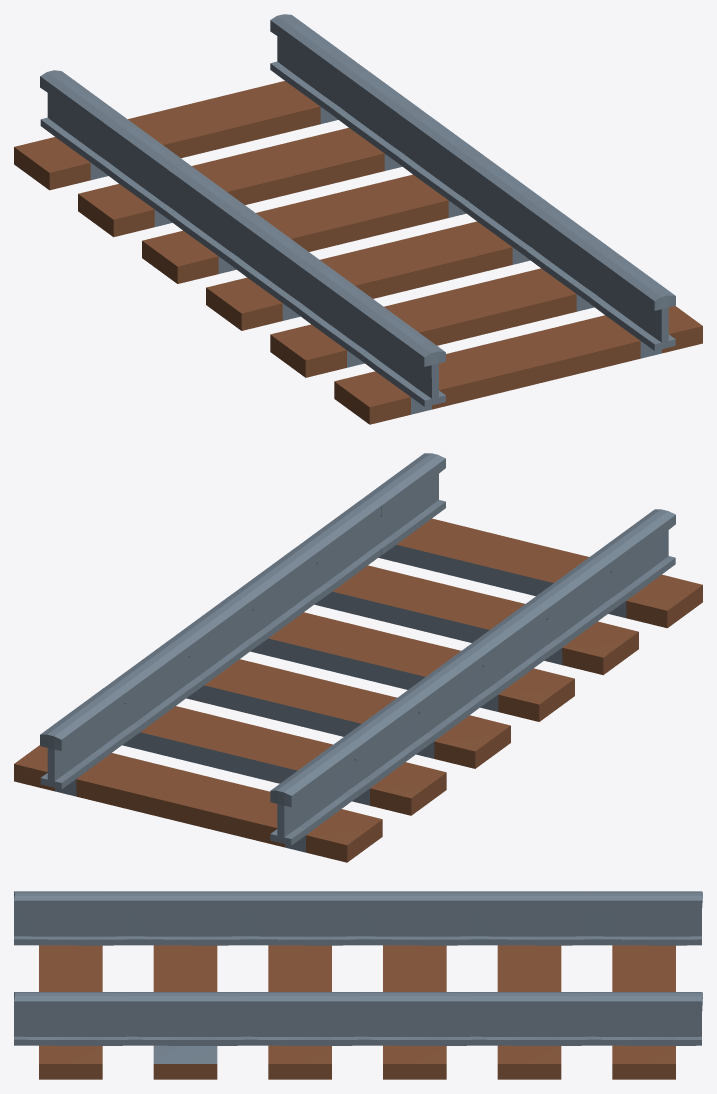
File: trilhoReto.glb
3 views of the same model, one above another, from view 1: azimuth 30°, elevation 25°; view 2: azimuth 150°, elevation 25°; view 3: azimuth 270°, elevation 25° (orthographic). The views are drawn at different scales.
Parts seen in each view (by area): view 1: trilho_reto; view 2: trilho_reto; view 3: trilho_reto.
Boxes of the visible parts, x1,y1,x2,y2 form: trilho_reto: (14,14,702,424); trilho_reto: (14,453,702,862); trilho_reto: (14,891,702,1079).
Size of the model in its own units: 0.5 by 0.1 by 1.
